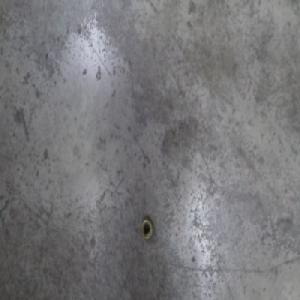Nut: (139, 216, 153, 243)
